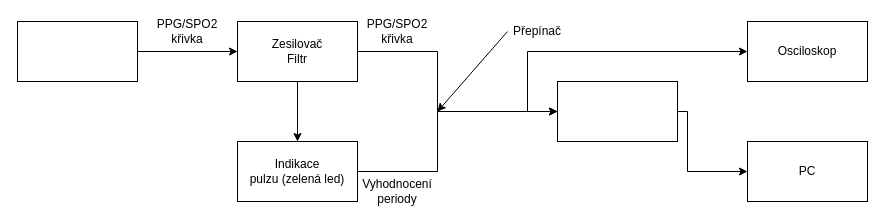
Some shapes in this 885 by 223 pixel diagram are drawn without their labels. Here are the shapes that lost their labels. From the top down, the box of each, then its label:
(16, 20, 138, 82): Senzor PPG
(556, 80, 678, 142): A/D
